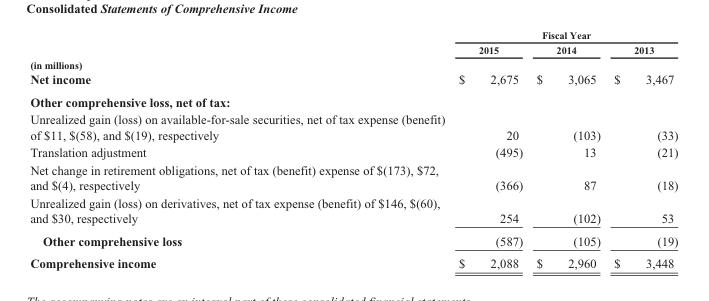table: (29, 28, 677, 270)
table column: (29, 28, 451, 270), (528, 28, 606, 270), (451, 28, 528, 270), (606, 28, 677, 270)
table column header: (29, 28, 677, 56)
table projected row header: (29, 90, 677, 110), (29, 56, 677, 70)
table row: (29, 193, 677, 229), (29, 110, 677, 143), (29, 160, 677, 193), (29, 229, 677, 251), (29, 70, 677, 90), (29, 90, 677, 110), (29, 251, 677, 270), (29, 143, 677, 160), (29, 41, 677, 56), (29, 56, 677, 70), (29, 28, 677, 41)
table spanning cell: (451, 28, 677, 41)
